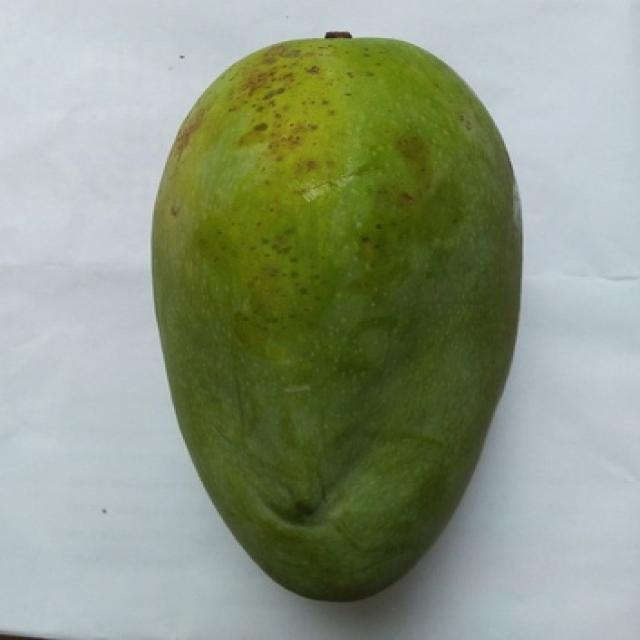Mango: (152, 35, 520, 599)
